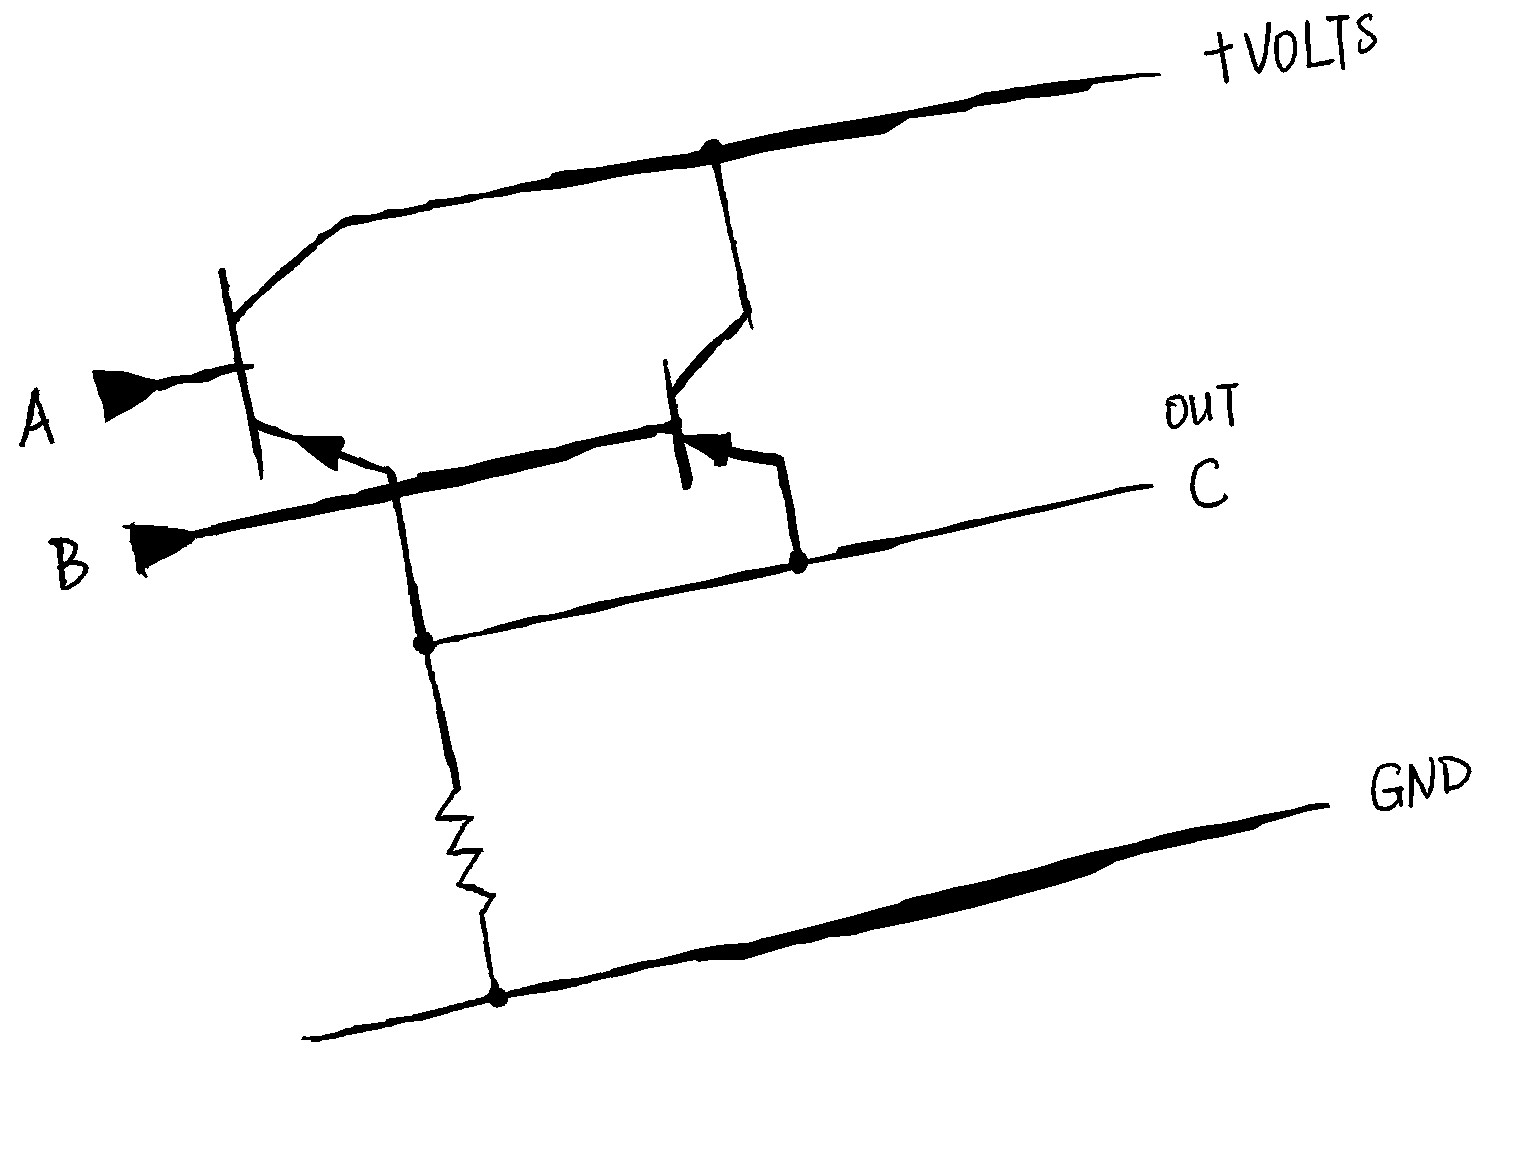crossover: (371, 470, 417, 509)
junction: (685, 125, 739, 182), (772, 537, 828, 591), (398, 620, 449, 666), (483, 979, 510, 1010)
resistor: (428, 778, 503, 928)
terminal: (119, 515, 233, 572), (1051, 54, 1176, 106), (83, 362, 186, 424), (1263, 778, 1363, 834), (1087, 456, 1173, 509), (281, 1012, 373, 1055)
text: (1242, 10, 1391, 76), (1367, 748, 1472, 813), (1162, 381, 1247, 434), (11, 385, 68, 457), (1186, 454, 1237, 520), (47, 531, 94, 599), (1199, 27, 1238, 92)
transistor.bjt: (208, 201, 403, 476), (654, 300, 802, 490)
